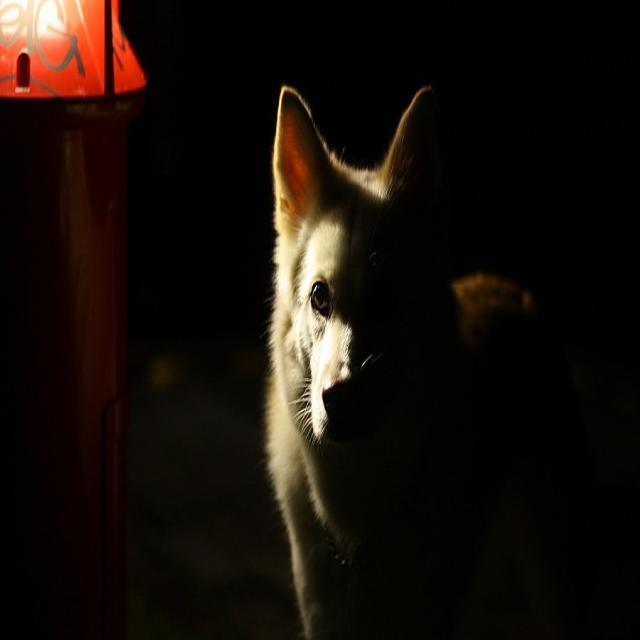Dog: (217, 80, 601, 640)
